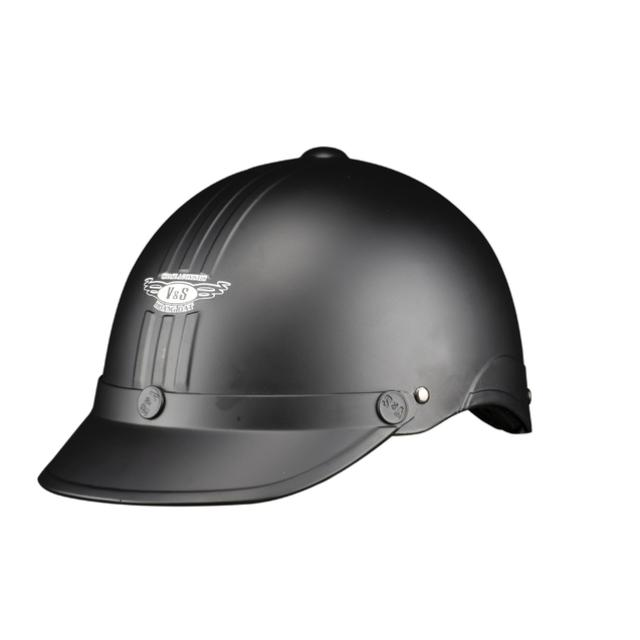Helmet: (28, 126, 540, 524)
